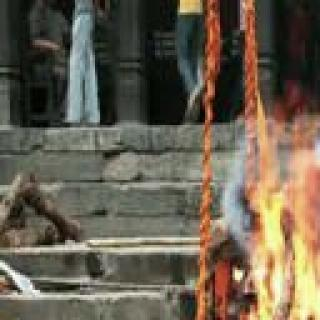fire: (246, 131, 320, 320)
